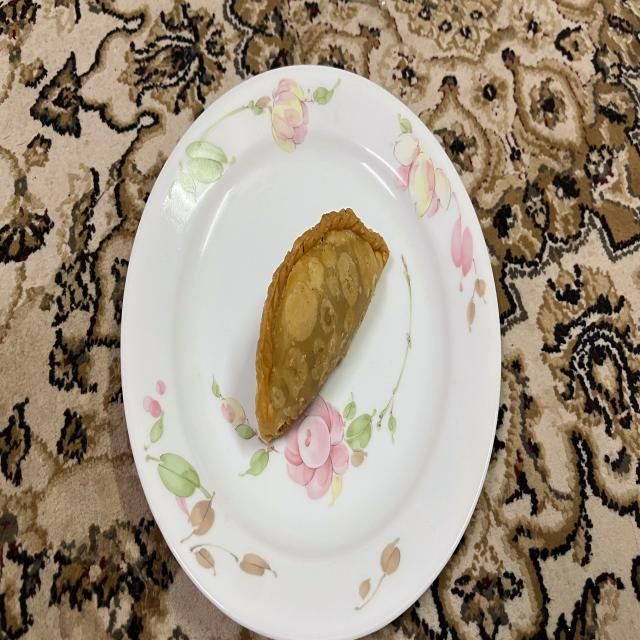karipap: (256, 209, 390, 442)
